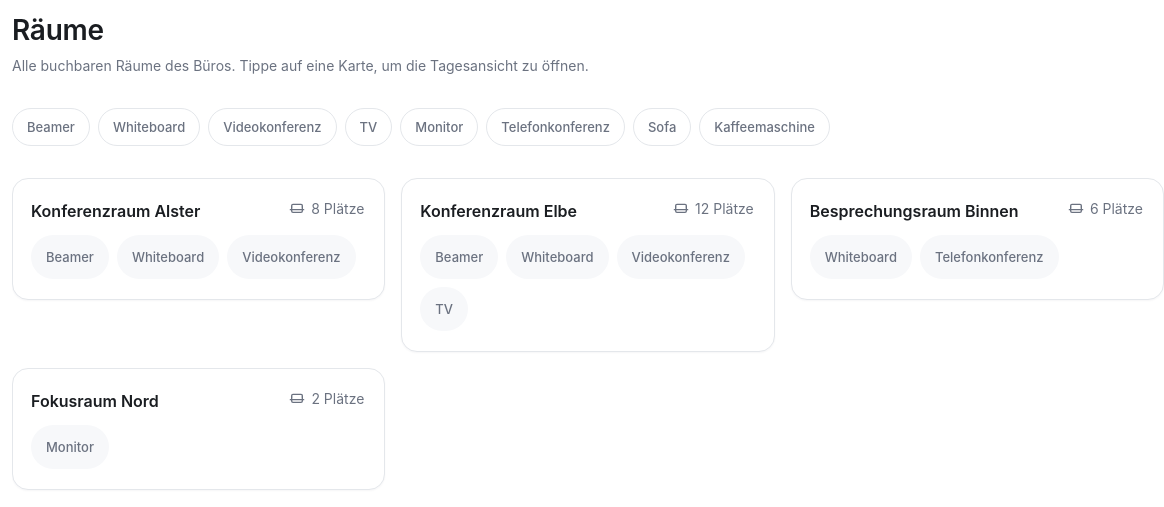
RoomList › combines several chips as AND
Expected: the link "Konferenzraum Elbe" is shown, [401, 178, 775, 352]
Click the button "Whiteboard": {"x": 149, "y": 127} [98, 108, 200, 146]
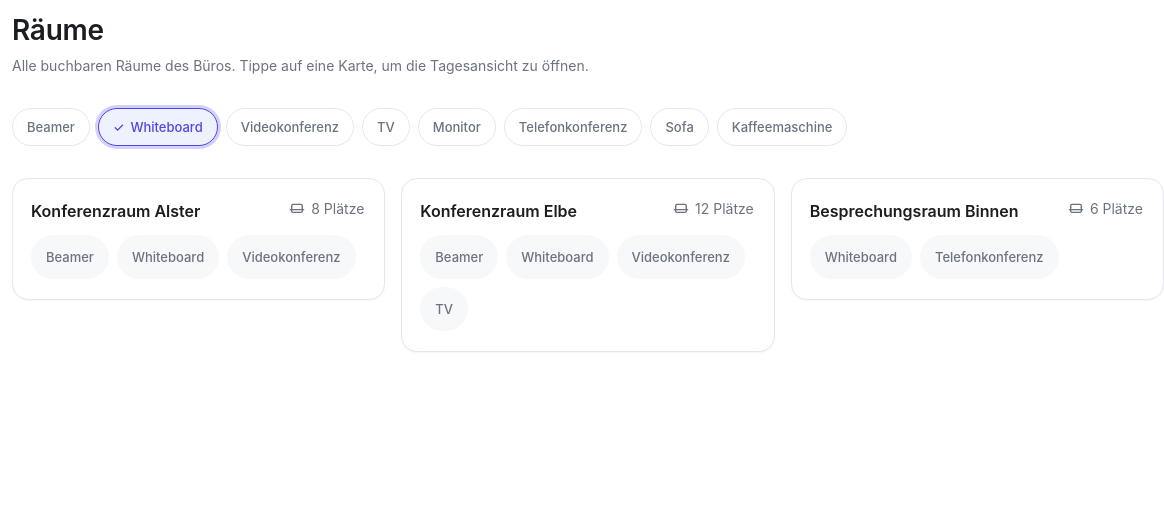
Click the button "TV": {"x": 386, "y": 127} [362, 108, 410, 146]
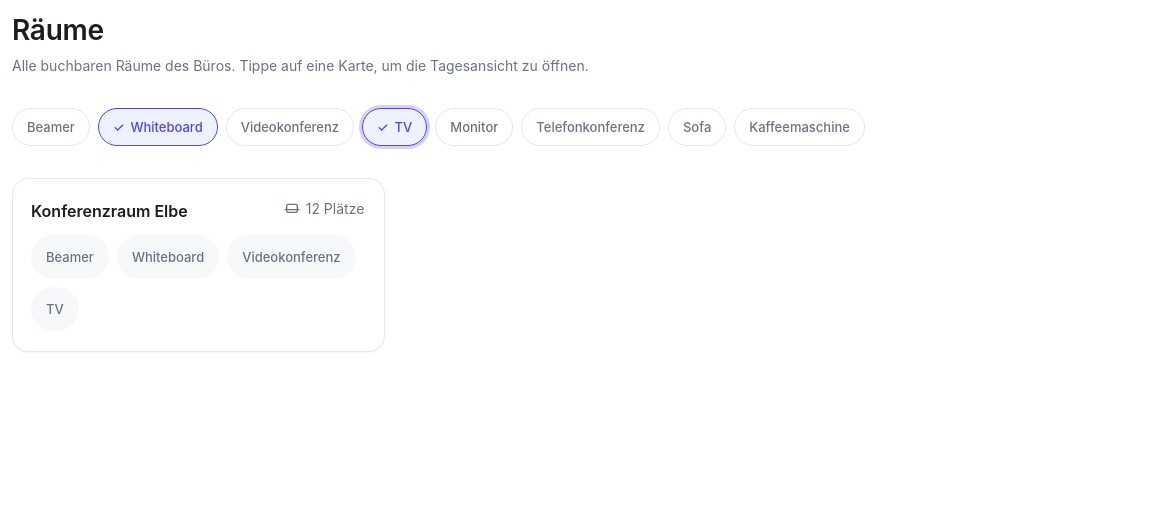
Expected: the link "Konferenzraum Elbe" is shown, [12, 178, 385, 352]
Expected: the link "Konferenzraum Alster" is gone
Expected: the link "Besprechungsraum Binnen" is gone
